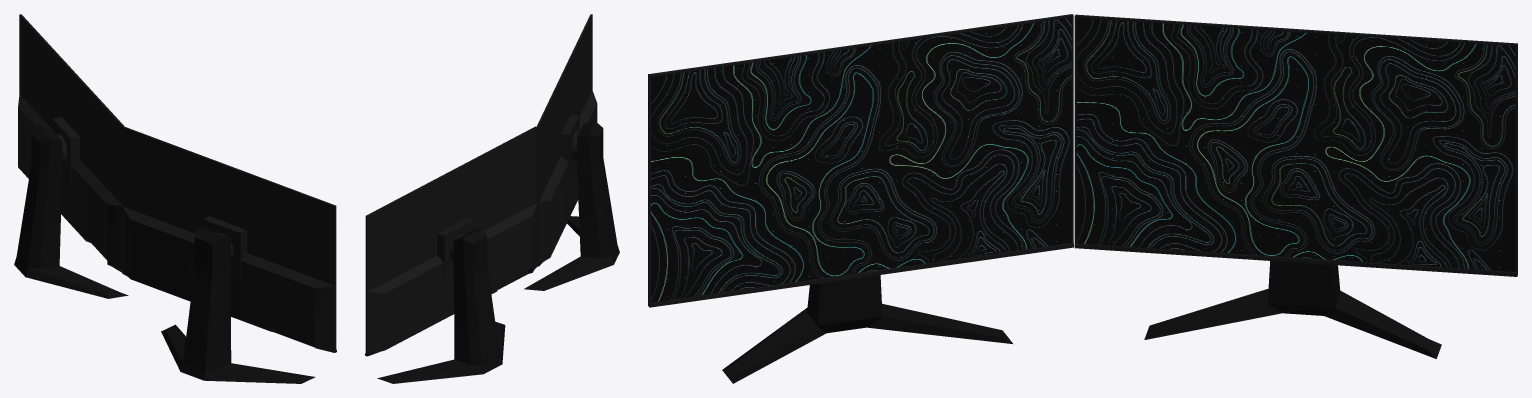
Rendered from monitor.glb.
The picture shows the model from 3 angles, left to right: view 1: azimuth 30°, elevation 25°; view 2: azimuth 150°, elevation 25°; view 3: azimuth 270°, elevation 25°; orthographic projection. The views are drawn at different scales.
Visible parts, largest first — view 1: Cylinder.001_5, Cylinder_3, Cube.002_6, Cube.001_4; view 2: Cylinder_3, Cylinder.001_5, Cube.001_4, Cube.002_6; view 3: Cylinder_3, Cylinder.001_5, Cube.001_4, Cube.002_6.
Boxes of the visible parts, x1,y1,x2,y2 form: Cylinder.001_5: (122, 126, 336, 352); Cylinder_3: (18, 14, 123, 272); Cube.002_6: (161, 228, 315, 383); Cube.001_4: (14, 125, 128, 298); Cylinder_3: (365, 126, 536, 356); Cylinder.001_5: (536, 14, 597, 266); Cube.001_4: (377, 228, 505, 383); Cube.002_6: (524, 121, 619, 290); Cylinder_3: (1074, 14, 1517, 276); Cylinder.001_5: (648, 14, 1073, 307); Cube.001_4: (1144, 261, 1441, 358); Cube.002_6: (722, 275, 1013, 383).
Bounding box in the file's own units: 0.4114 × 0.6537 × 1.7.
3 materials, 1 textured.
